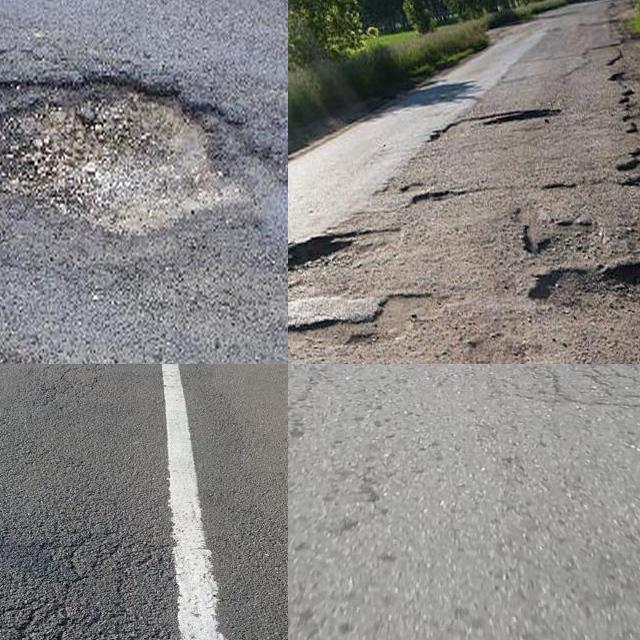Lubang: (0, 78, 282, 253), (288, 228, 397, 292), (539, 267, 640, 325)
Pinggir: (589, 1, 640, 208)
Retak Buaya: (0, 536, 146, 640)
